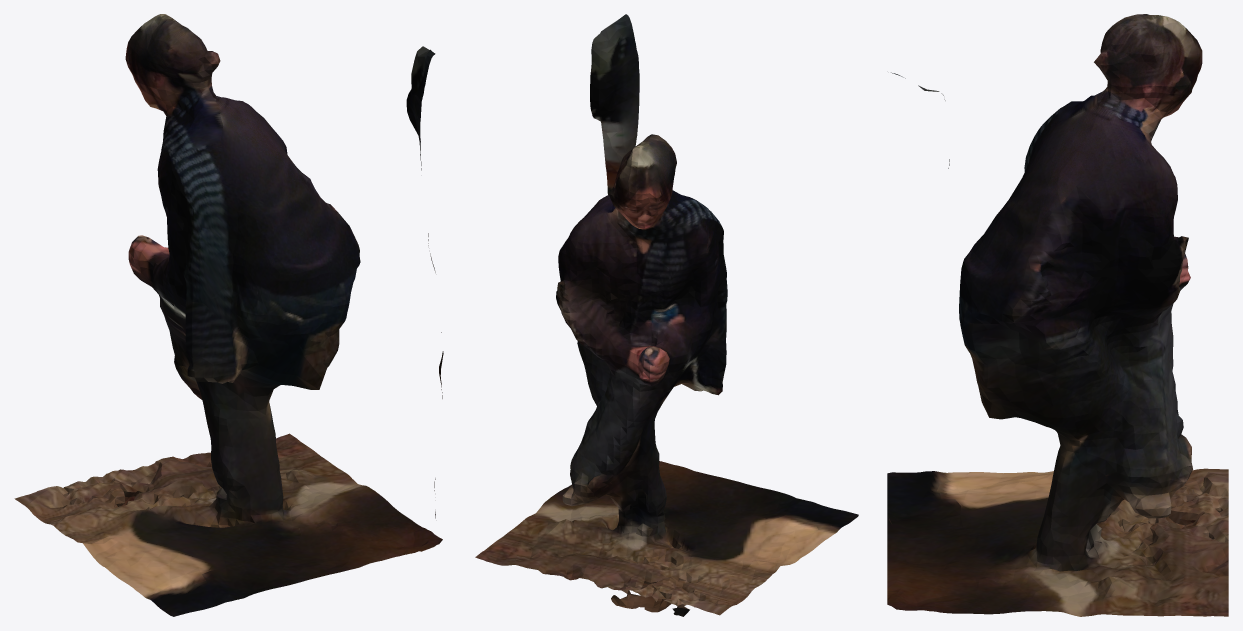
The model's file is mbo_friends_queenie.glb.
3 views of the same model, side by side, from view 1: azimuth 30°, elevation 25°; view 2: azimuth 150°, elevation 25°; view 3: azimuth 270°, elevation 25° (orthographic). The views are drawn at different scales.
Bounding box in the file's own units: 0.8376 × 1.5 × 0.8328.
1 material, 1 textured.
